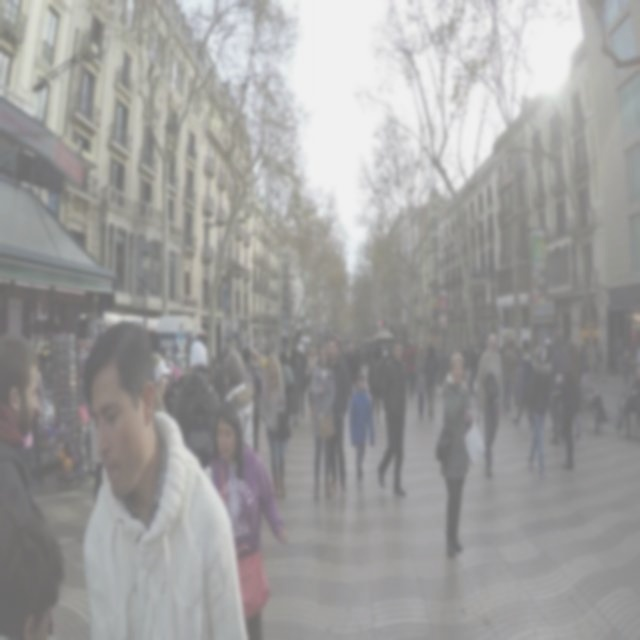pessoa: (80, 314, 252, 638), (203, 398, 290, 638), (0, 329, 66, 636), (432, 347, 488, 562), (0, 517, 68, 639), (172, 338, 222, 461), (376, 333, 412, 503), (473, 329, 507, 482), (260, 354, 292, 500), (310, 341, 338, 503), (326, 333, 351, 500), (524, 342, 554, 480), (222, 348, 256, 455), (348, 371, 375, 486), (88, 404, 114, 522), (26, 352, 48, 484), (144, 345, 188, 407), (558, 338, 582, 444), (555, 364, 578, 471), (511, 336, 536, 430), (548, 331, 568, 446), (579, 364, 610, 436), (612, 364, 640, 442), (540, 341, 560, 448), (579, 336, 621, 378), (250, 346, 265, 456), (366, 342, 384, 426), (277, 350, 297, 422), (413, 340, 429, 423), (422, 344, 438, 424), (289, 346, 304, 430), (500, 339, 516, 417), (462, 341, 482, 403), (304, 345, 320, 420), (404, 336, 419, 403), (354, 338, 374, 382), (241, 344, 256, 399), (435, 350, 451, 394), (512, 346, 522, 408), (621, 343, 632, 388), (402, 330, 410, 390), (207, 354, 220, 382), (413, 340, 419, 390), (302, 346, 308, 391), (631, 321, 637, 359), (337, 337, 347, 359), (382, 344, 392, 366), (498, 340, 506, 363), (222, 342, 232, 358), (348, 342, 356, 358), (537, 262, 546, 274), (315, 344, 321, 354), (380, 399, 384, 412), (325, 342, 329, 354)
